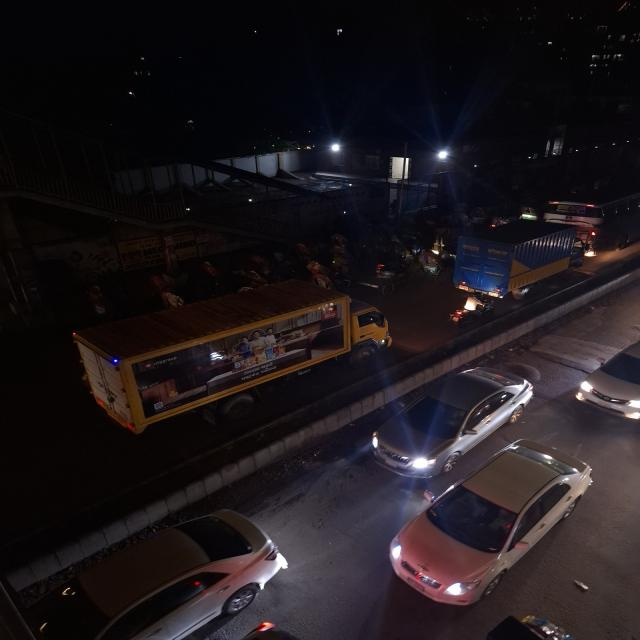bus: (539, 186, 640, 252)
car: (386, 439, 597, 609), (49, 509, 290, 640), (370, 362, 540, 482), (570, 323, 639, 428)
motorcycle: (446, 296, 497, 329)
truck: (54, 276, 397, 438), (451, 219, 588, 299)
